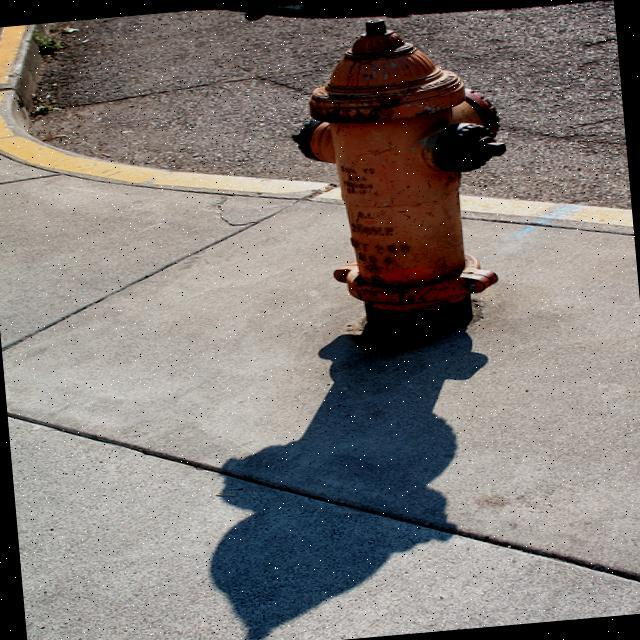fire_hydrant: (278, 9, 520, 351)
